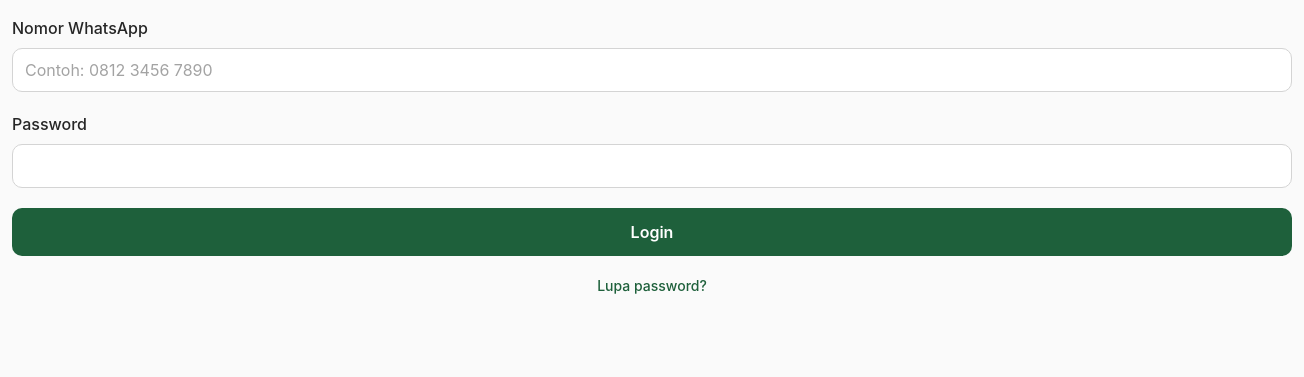
LoginForm › shows the same safe error when Auth.js rejects credentials
The image size is (1304, 377).
Type "081234567890" into the field labelled "Nomor WhatsApp" at {"x": 652, "y": 70}, box [12,48,1292,92]
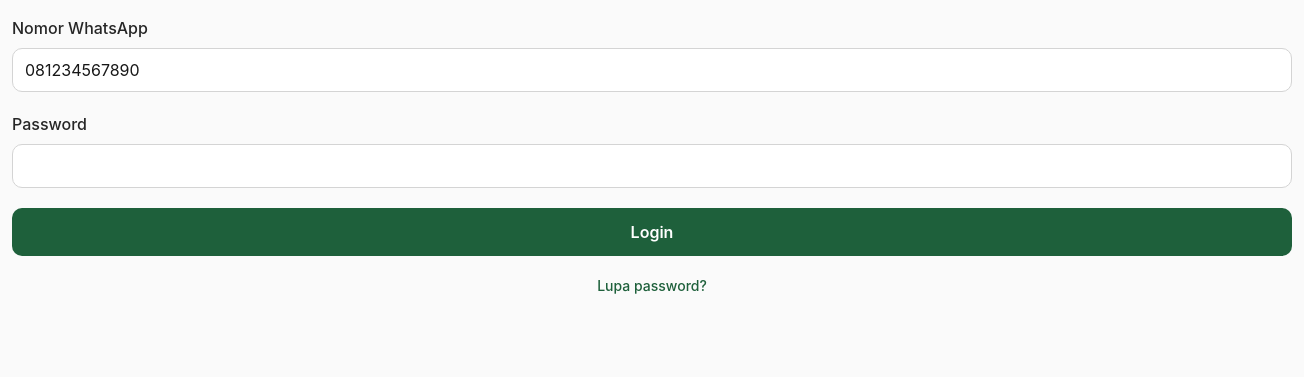
Type "password-salah" into the password field labelled "Password" at {"x": 652, "y": 166}, box [12,144,1292,188]
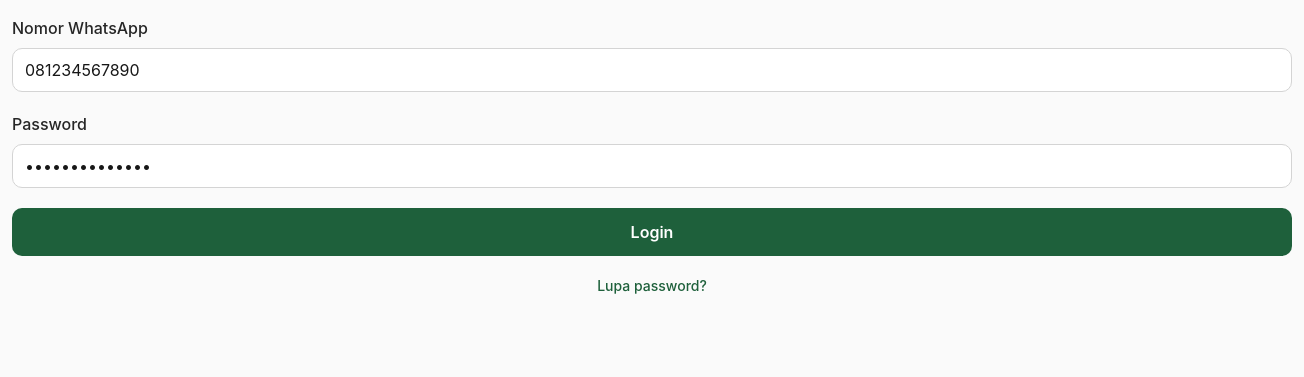
Click the button "Login" at {"x": 652, "y": 232}, box [12,208,1292,256]
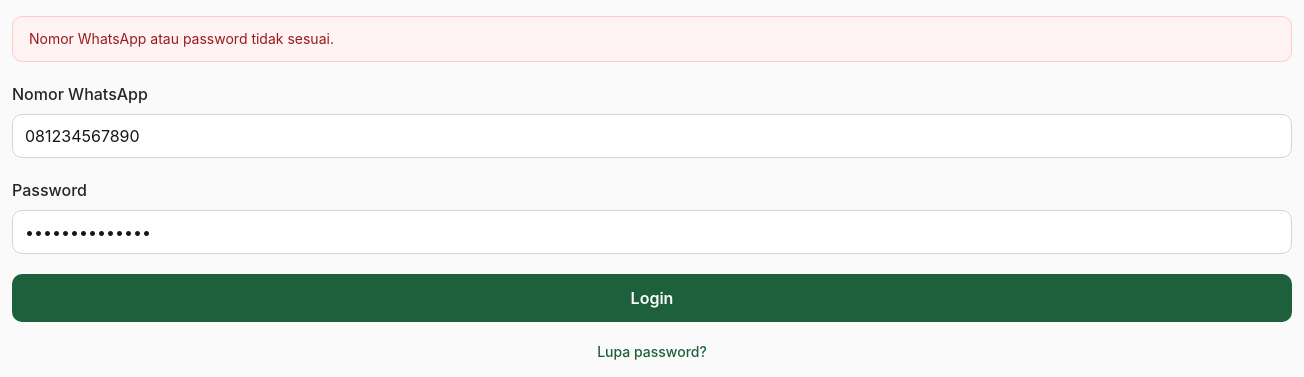
Check: the message reads "Nomor WhatsApp atau password tidak sesuai.", box [29,30,334,47]
